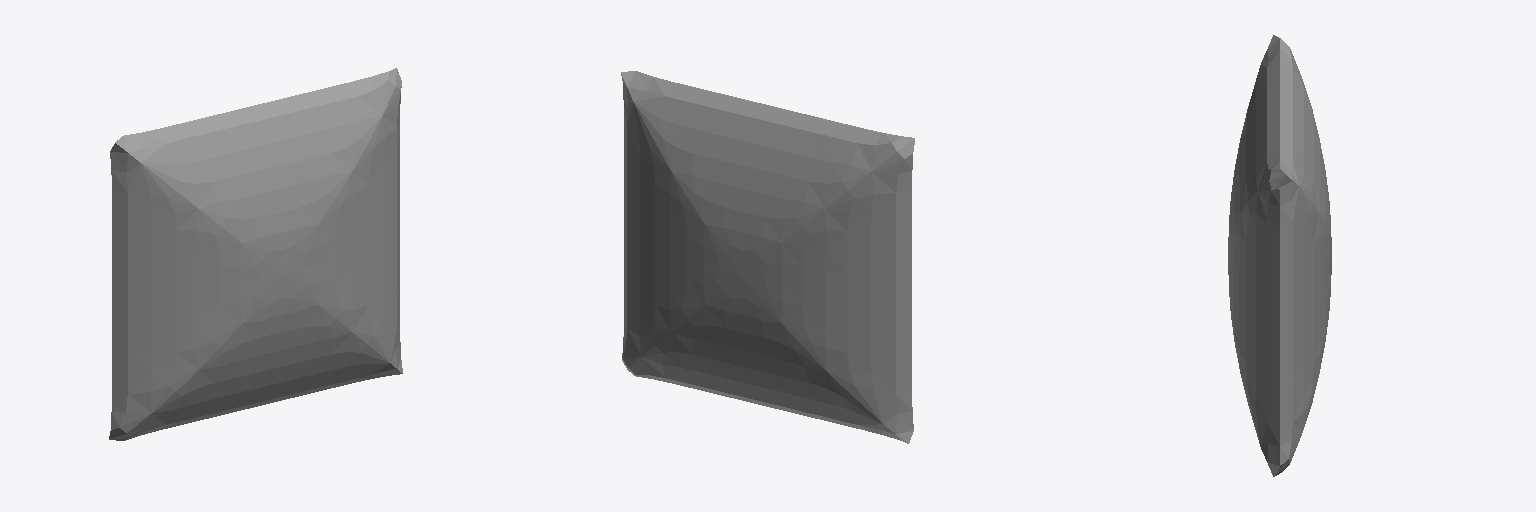
Rendered from BeanbagJoel.obj.
The picture shows the model from 3 angles: view 1: azimuth 30°, elevation 25°; view 2: azimuth 150°, elevation 25°; view 3: azimuth 270°, elevation 25°; orthographic projection.
Visible parts, largest first — view 1: Plane; view 2: Plane; view 3: Plane.
Boxes of the visible parts, x1,y1,x2,y2 form: Plane: [109, 68, 402, 440]; Plane: [621, 71, 914, 443]; Plane: [1228, 35, 1331, 476].
Size of the model in its own units: 189 by 190 by 58.49.